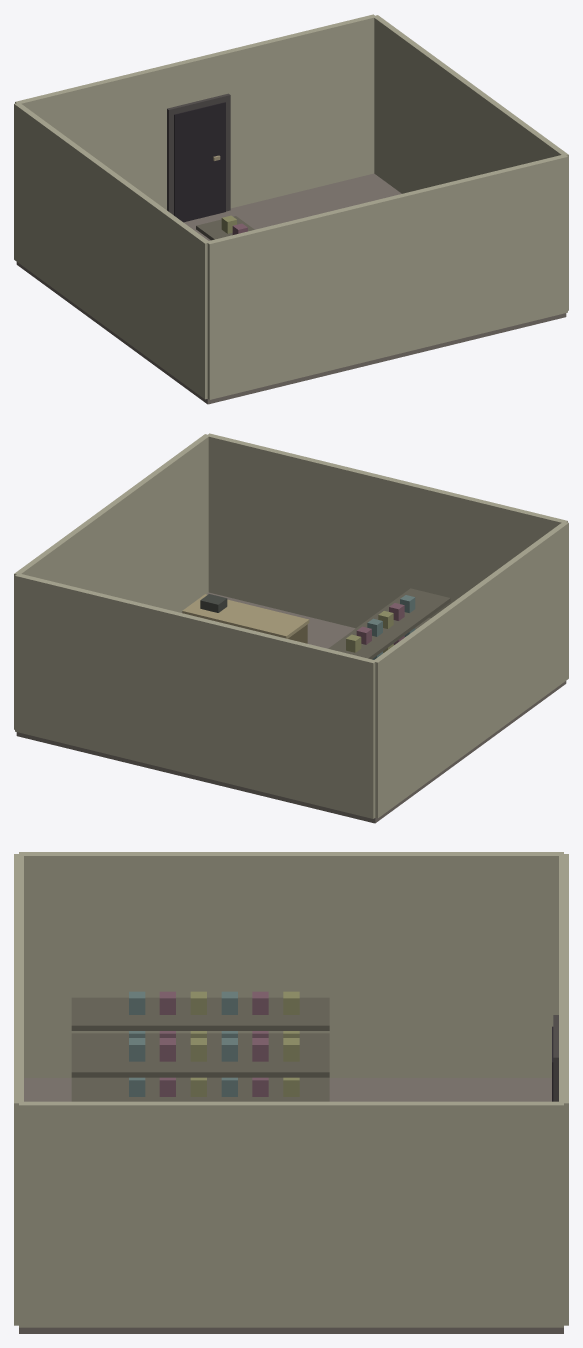
Rendered from tiendaNocturna.obj.
3 views of the same model, one above another, from view 1: azimuth 30°, elevation 25°; view 2: azimuth 150°, elevation 25°; view 3: azimuth 270°, elevation 25° (orthographic). The views are drawn at different scales.
Visible parts, largest first — view 1: tiendaNocturna_c2_12, tiendaNocturna_c2_13, tiendaNocturna_c2_10, tiendaNocturna_c2_11, tiendaNocturna_c2_9, tiendaNocturna_c2_16, tiendaNocturna_c2_15, tiendaNocturna_c2_55; view 2: tiendaNocturna_c2_13, tiendaNocturna_c2_12, tiendaNocturna_c2_10, tiendaNocturna_c2_11, tiendaNocturna_c2_9, tiendaNocturna_c2_55, tiendaNocturna_c2_63; view 3: tiendaNocturna_c2_11, tiendaNocturna_c2_10, tiendaNocturna_c2_9, tiendaNocturna_c2_55, tiendaNocturna_c2_34, tiendaNocturna_c2_48, tiendaNocturna_c2_13, tiendaNocturna_c2_12, tiendaNocturna_c2_27.
Boxes of the visible parts, left/top/right/bottom form: tiendaNocturna_c2_12: left=206, top=155, right=567, bottom=399; tiendaNocturna_c2_13: left=15, top=14, right=374, bottom=209; tiendaNocturna_c2_10: left=14, top=102, right=208, bottom=399; tiendaNocturna_c2_11: left=373, top=15, right=568, bottom=310; tiendaNocturna_c2_9: left=16, top=173, right=566, bottom=404; tiendaNocturna_c2_16: left=174, top=102, right=225, bottom=222; tiendaNocturna_c2_15: left=167, top=93, right=230, bottom=215; tiendaNocturna_c2_55: left=196, top=216, right=254, bottom=240; tiendaNocturna_c2_13: left=15, top=574, right=376, bottom=818; tiendaNocturna_c2_12: left=208, top=433, right=567, bottom=628; tiendaNocturna_c2_10: left=373, top=521, right=568, bottom=818; tiendaNocturna_c2_11: left=14, top=434, right=209, bottom=729; tiendaNocturna_c2_9: left=16, top=592, right=566, bottom=823; tiendaNocturna_c2_55: left=328, top=588, right=450, bottom=659; tiendaNocturna_c2_63: left=182, top=594, right=309, bottom=638; tiendaNocturna_c2_11: left=19, top=1101, right=563, bottom=1327; tiendaNocturna_c2_10: left=19, top=852, right=563, bottom=1077; tiendaNocturna_c2_9: left=19, top=1078, right=563, bottom=1333; tiendaNocturna_c2_55: left=71, top=1044, right=329, bottom=1077; tiendaNocturna_c2_34: left=71, top=997, right=329, bottom=1030; tiendaNocturna_c2_48: left=71, top=1080, right=329, bottom=1101; tiendaNocturna_c2_13: left=559, top=854, right=568, bottom=1325; tiendaNocturna_c2_12: left=14, top=854, right=23, bottom=1325; tiendaNocturna_c2_27: left=71, top=1033, right=329, bottom=1044.
Bounding box in the file's own units: 13.2 × 5.6 × 12.22.
